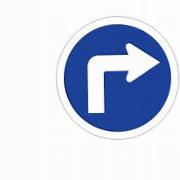right: (54, 15, 180, 139)
